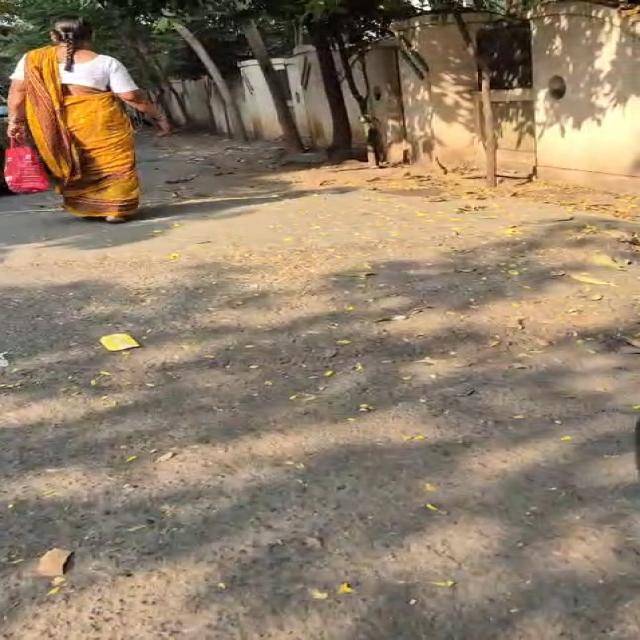person: (9, 18, 171, 222)
tree_trunk: (172, 20, 247, 140), (243, 19, 303, 152), (453, 12, 496, 187), (334, 32, 385, 167), (128, 25, 190, 124), (308, 22, 352, 158), (121, 26, 175, 125)
